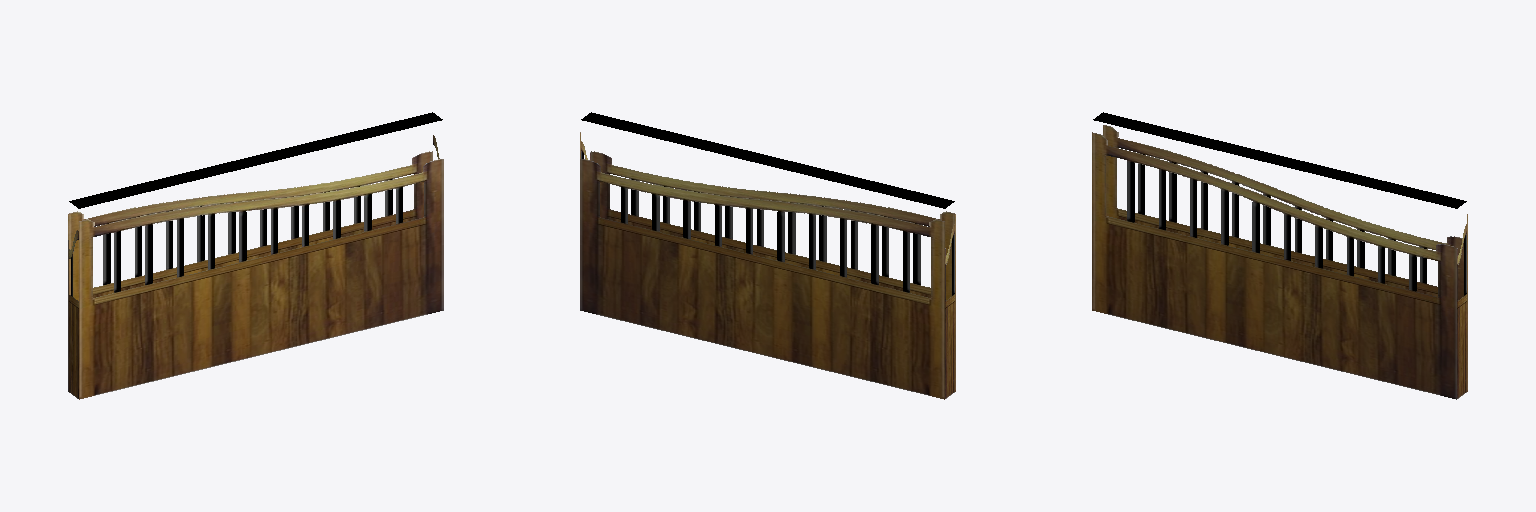
3 renders of one model, left to right at view 1: azimuth 30°, elevation 25°; view 2: azimuth 150°, elevation 25°; view 3: azimuth 330°, elevation 25°, orthographic.
Visible parts, largest first — view 1: Box001; view 2: Box001; view 3: Box001.
Part boxes in pixels (x1,y1,x2,y2): Box001: (68,112,443,399); Box001: (580,112,955,399); Box001: (1092,112,1467,399).
Size of the model in its own units: 500 by 250 by 25.
Materials: 3 (3 with a texture image).